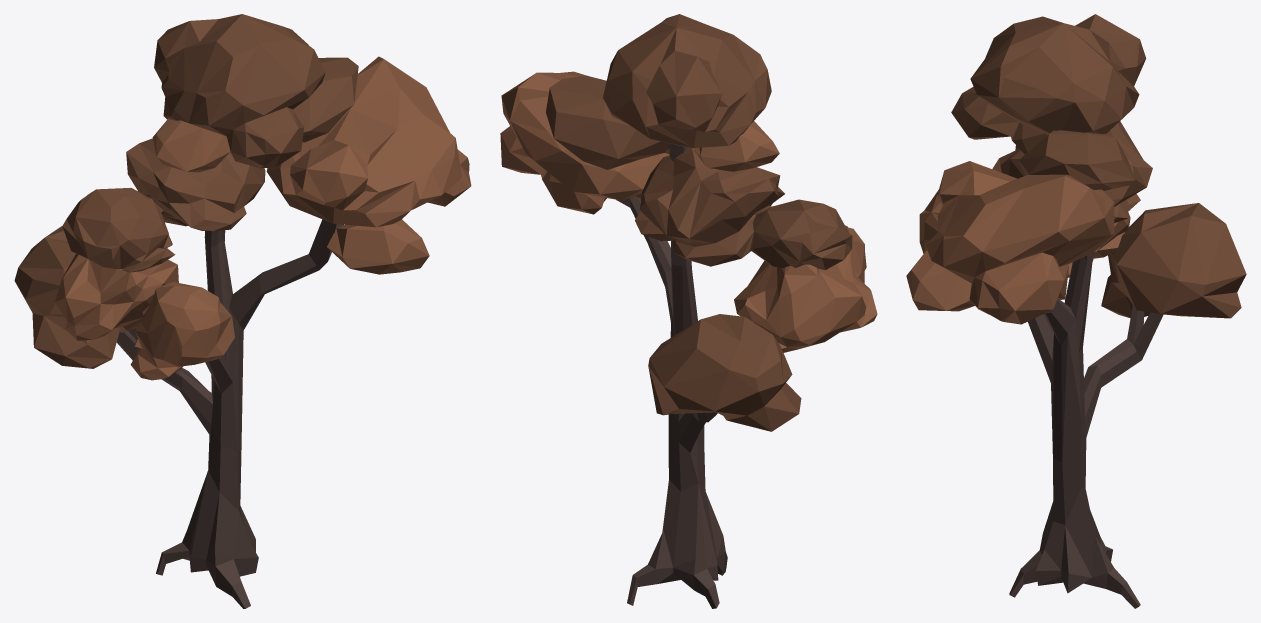
The model's file is SM_Env_Tree_03.fbx.
3 views of the same model, side by side, from view 1: azimuth 30°, elevation 25°; view 2: azimuth 150°, elevation 25°; view 3: azimuth 270°, elevation 25° (orthographic). The views are drawn at different scales.
Visible parts, largest first — view 1: SM_Env_Tree_03; view 2: SM_Env_Tree_03; view 3: SM_Env_Tree_03.
Part boxes in pixels (box(x1,y1,x2,y2)): SM_Env_Tree_03: box(14, 14, 471, 608); SM_Env_Tree_03: box(500, 14, 877, 608); SM_Env_Tree_03: box(906, 14, 1246, 608).
Size of the model in its own units: 1000 by 1405 by 741.
1 material, 1 textured.
